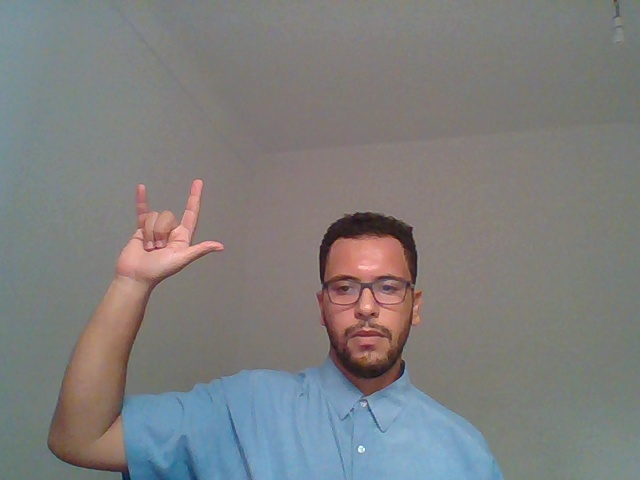iloveyou: (60, 147, 239, 402)
